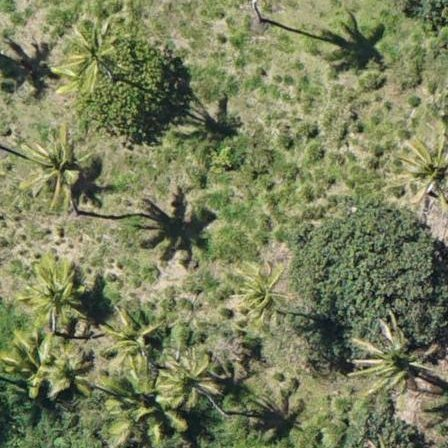palm_tree: (352, 311, 433, 402), (18, 247, 96, 330), (52, 20, 123, 96), (25, 127, 95, 203), (8, 330, 77, 393), (155, 345, 215, 410), (397, 131, 448, 206), (229, 260, 291, 321)
